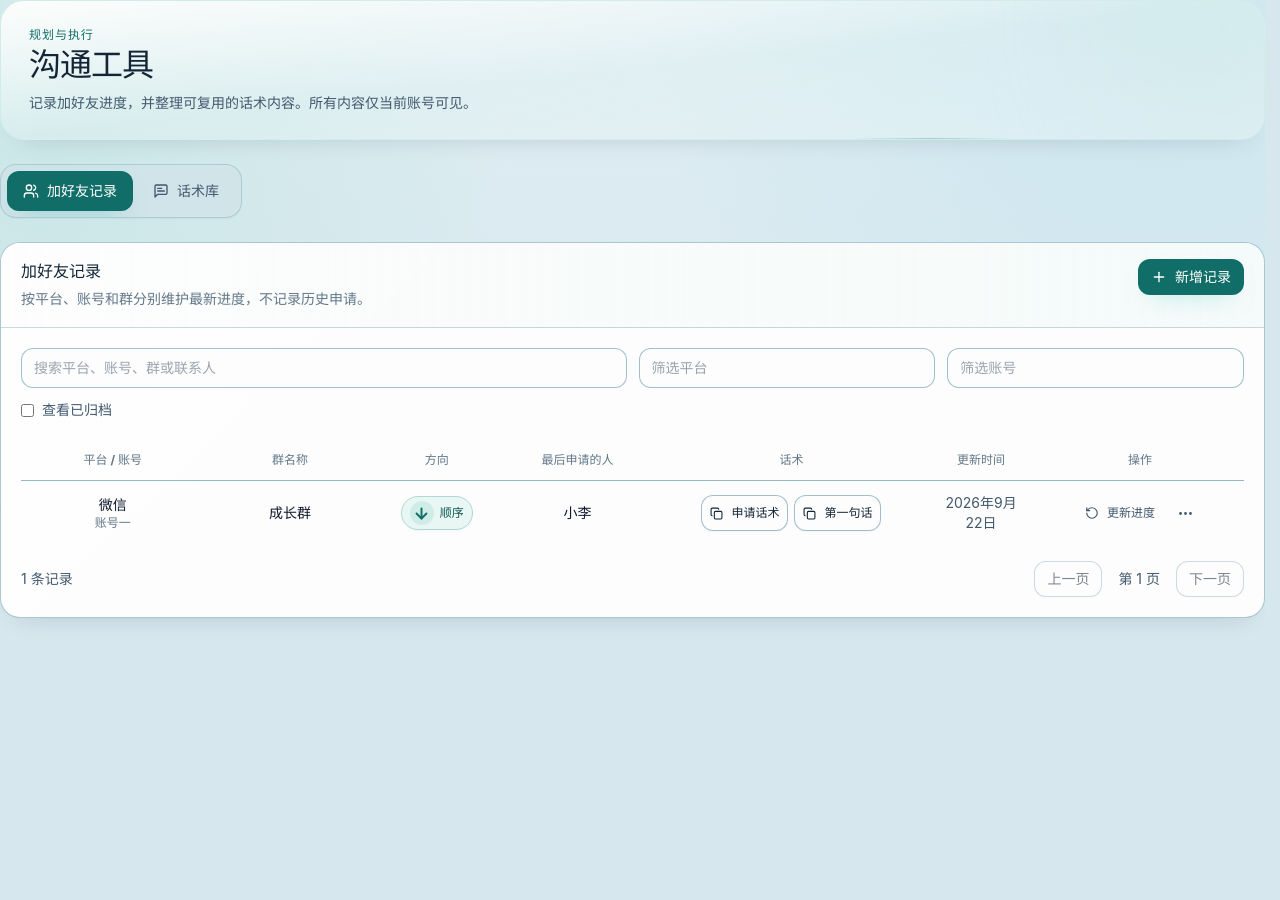
Scenario: CommunicationPage › keeps archive and delete inside the more-actions menu
Step 1. Click the button named "更多操作" → (1185, 513), box [1167,495,1203,531]
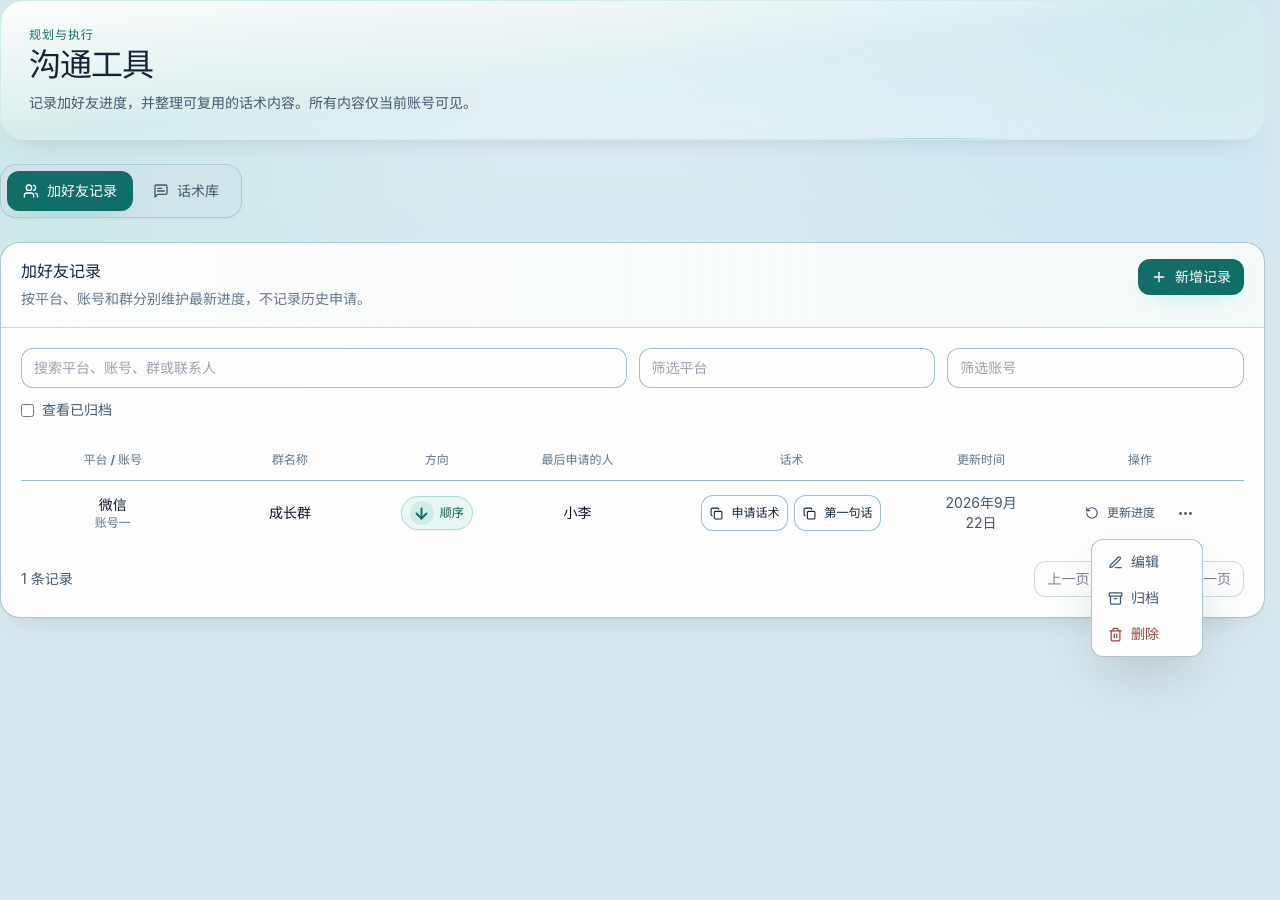
Now the menu item "编辑" is shown, box [1096,544,1198,580]
Now the menu item "归档" is shown, box [1096,580,1198,616]
Now the menu item "删除" is shown, box [1096,616,1198,652]
